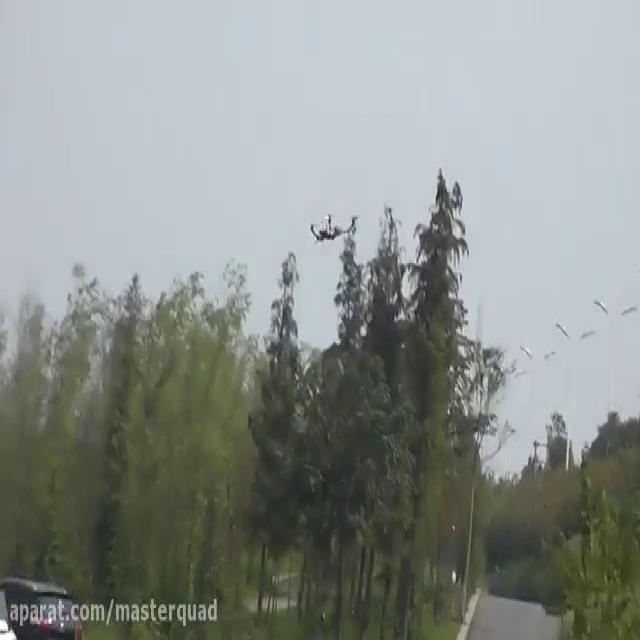drone: (306, 208, 360, 244)
